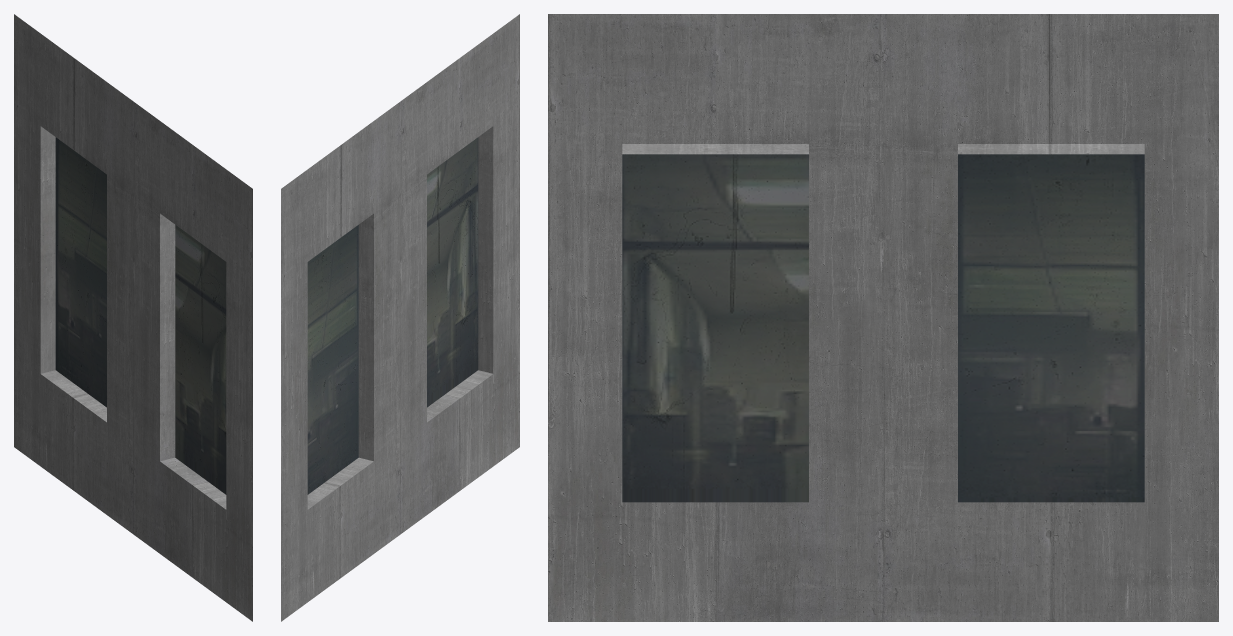
File: HH_Hospital_Windows_4m_01.fbx
The picture shows the model from 3 angles, left to right: view 1: azimuth 30°, elevation 25°; view 2: azimuth 150°, elevation 25°; view 3: azimuth 270°, elevation 25°; orthographic projection. The views are drawn at different scales.
Parts seen in each view (by area): view 1: HH_Hospital_Windows_4m_01; view 2: HH_Hospital_Windows_4m_01; view 3: HH_Hospital_Windows_4m_01.
Boxes of the visible parts, box(x1,y1,x2,y2) form: HH_Hospital_Windows_4m_01: box(14, 14, 252, 621); HH_Hospital_Windows_4m_01: box(281, 14, 519, 621); HH_Hospital_Windows_4m_01: box(548, 14, 1218, 621).
Bounding box in the file's own units: 14.74 × 400 × 400.
